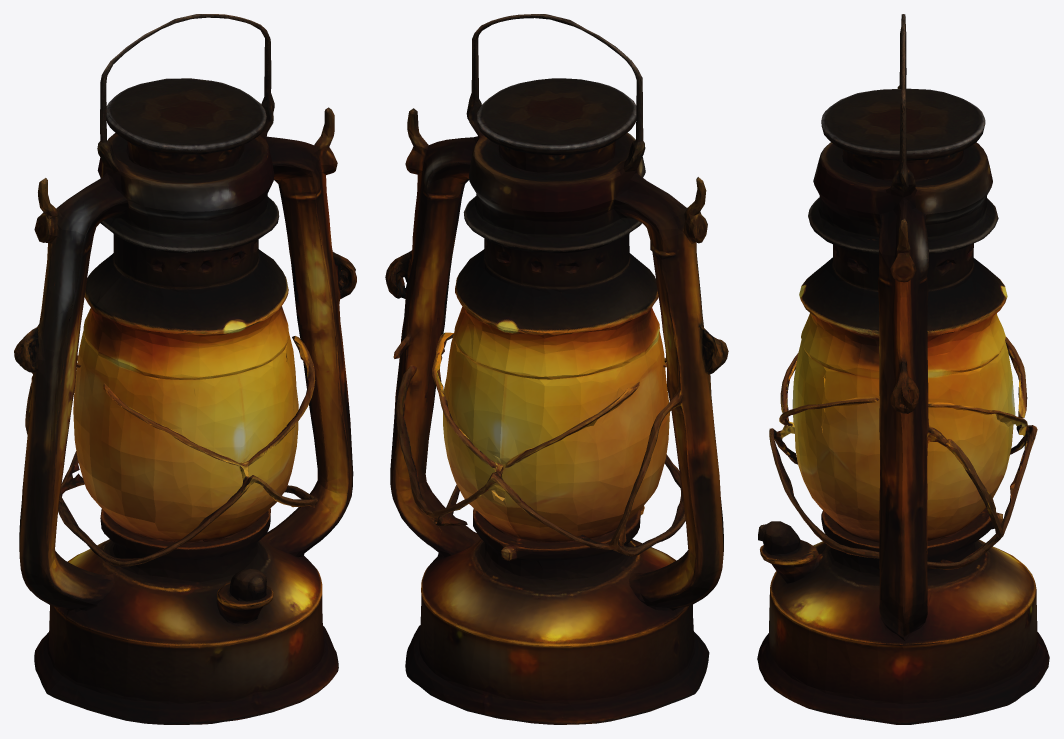
File: den_xe_banh_mi.glb
3 views of the same model, side by side, from view 1: azimuth 30°, elevation 25°; view 2: azimuth 150°, elevation 25°; view 3: azimuth 270°, elevation 25° (orthographic).
Parts seen in each view (by area): view 1: world; view 2: world; view 3: world.
Part boxes in pixels (x1,y1,x2,y2): world: (14, 14, 356, 724); world: (385, 14, 728, 724); world: (757, 14, 1049, 724).
Size of the model in its own units: 0.549 by 0.9998 by 0.4183.
1 material, 1 textured.
